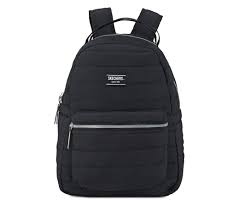bag: (62, 9, 181, 201)
